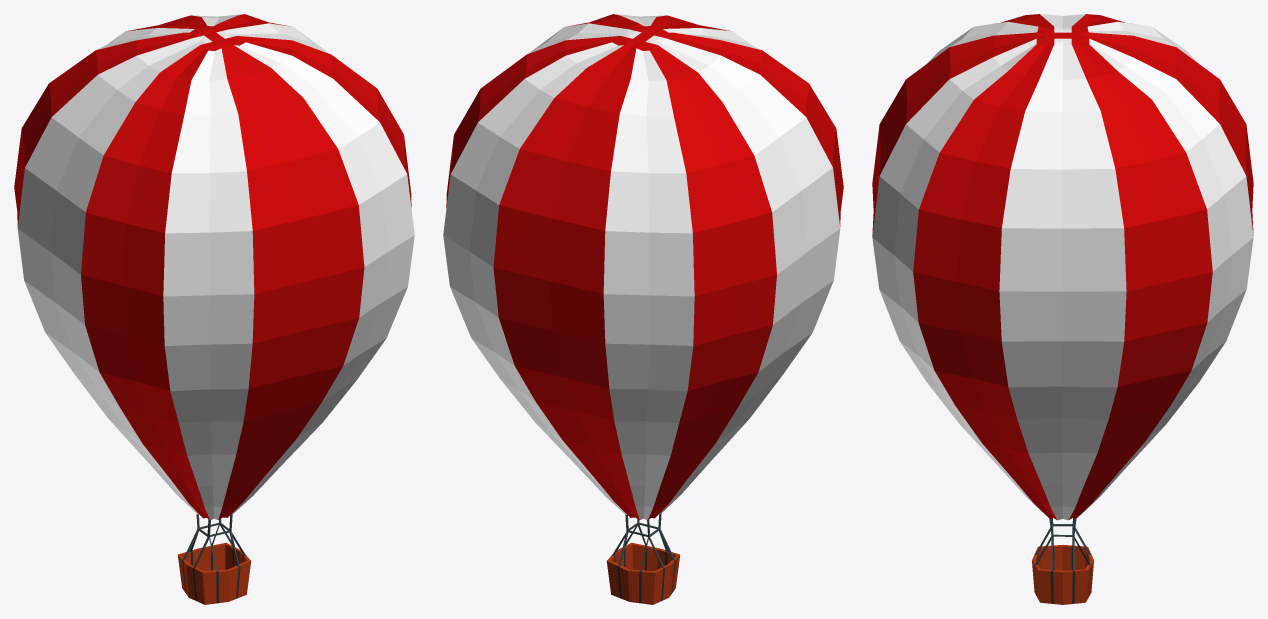
Rendered from Balon.fbx.
The picture shows the model from 3 angles, left to right: view 1: azimuth 30°, elevation 25°; view 2: azimuth 150°, elevation 25°; view 3: azimuth 270°, elevation 25°; orthographic projection.
Parts seen in each view (by area): view 1: Balloon; view 2: Balloon; view 3: Balloon.
Part boxes in pixels (box(x1,y1,x2,y2)): Balloon: box(14, 14, 414, 604); Balloon: box(443, 14, 843, 604); Balloon: box(872, 14, 1253, 604).
Size of the model in its own units: 14.49 by 23.23 by 14.42.
Materials: 1 (1 with a texture image).
